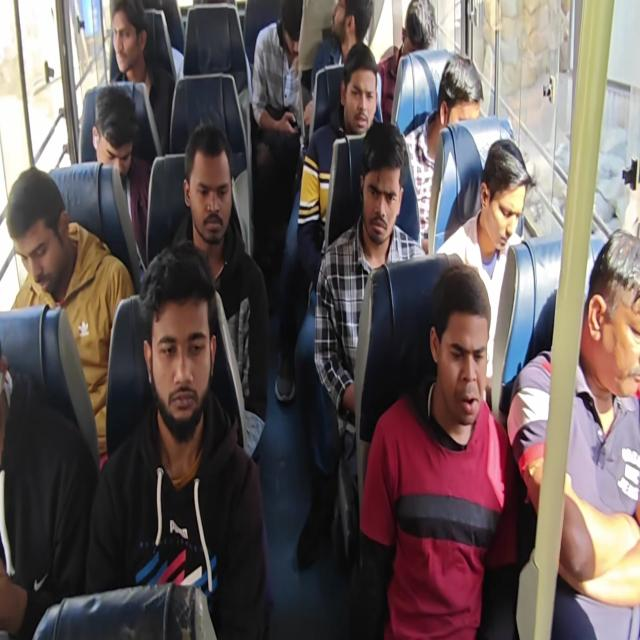person: (1, 1, 639, 638), (84, 240, 270, 638), (358, 262, 520, 638), (506, 228, 640, 638), (5, 166, 135, 469), (313, 120, 426, 440), (169, 122, 269, 459), (0, 350, 99, 638), (435, 138, 535, 405), (296, 43, 382, 290), (250, 1, 309, 281), (402, 53, 484, 251), (91, 85, 151, 270), (108, 0, 175, 158), (304, 0, 376, 128), (375, 0, 437, 124)
